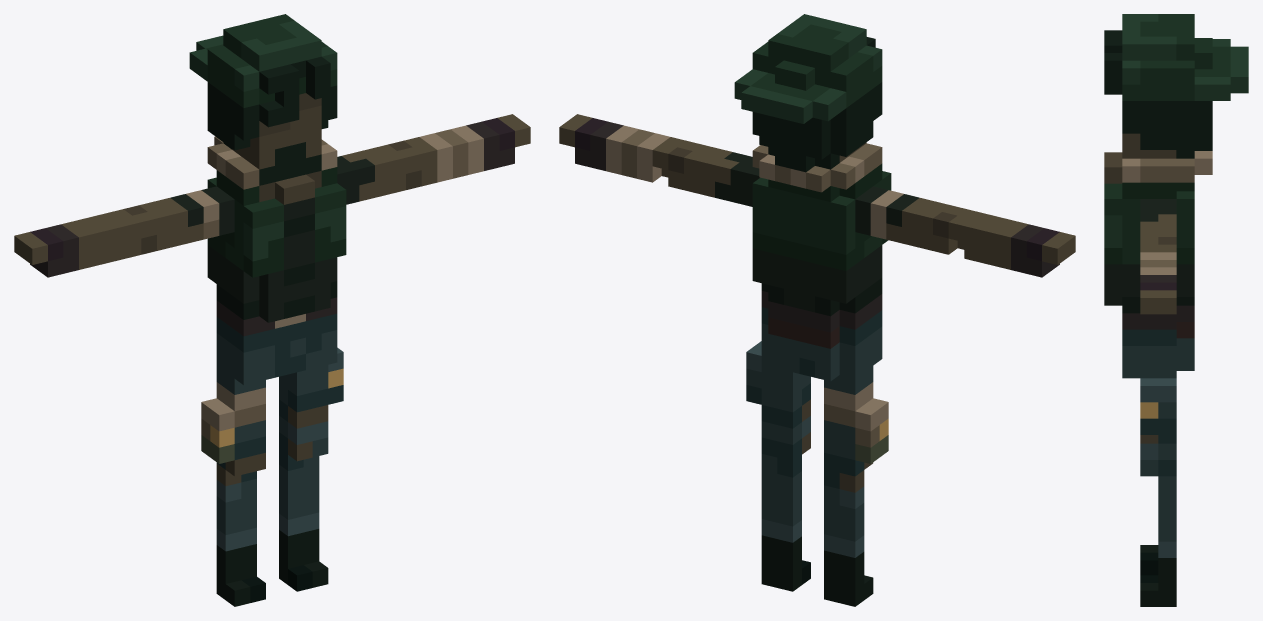
File: playerMesh.obj
3 renders of one model, left to right at view 1: azimuth 30°, elevation 25°; view 2: azimuth 150°, elevation 25°; view 3: azimuth 270°, elevation 25°, orthographic.
Parts seen in each view (by area): view 1: Character_Hero; view 2: Character_Hero; view 3: Character_Hero.
Boxes of the visible parts, x1=… form: Character_Hero: x1=14, y1=14, x2=530, y2=606; Character_Hero: x1=559, y1=14, x2=1075, y2=606; Character_Hero: x1=1104, y1=14, x2=1248, y2=606.
Size of the model in its own units: 1.6 by 1.7 by 0.4.
